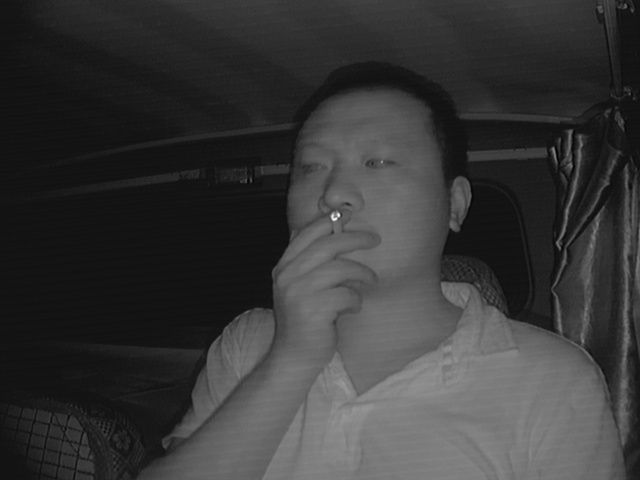hand: (282, 206, 380, 322)
